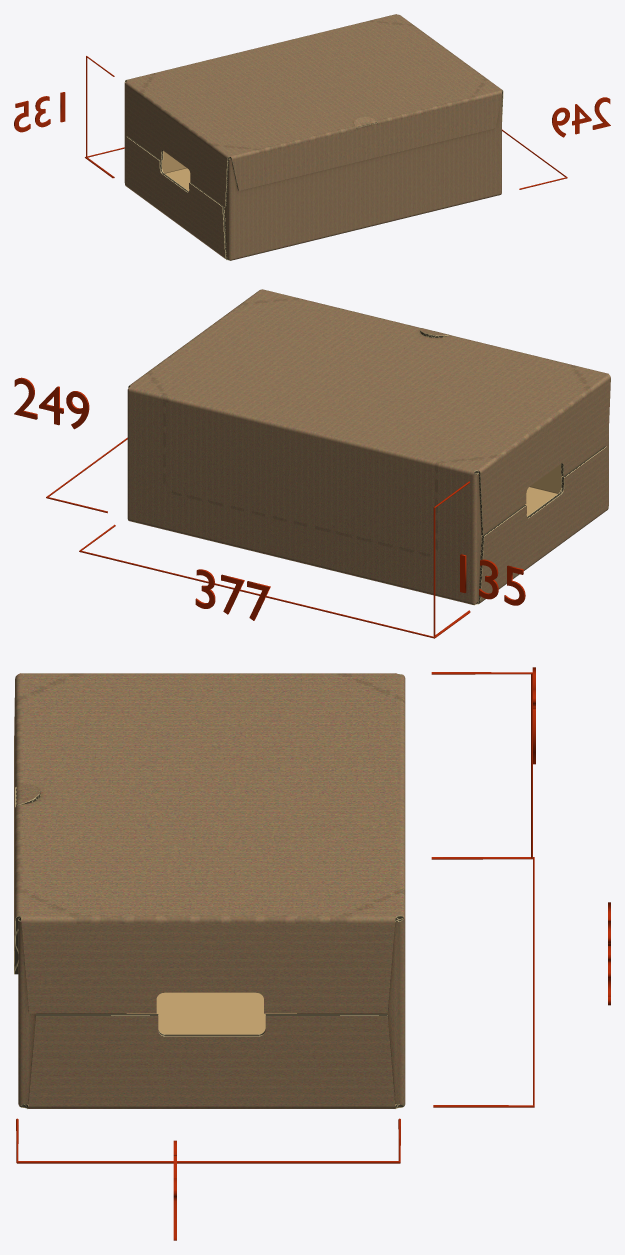
File: cocina.glb
The picture shows the model from 3 angles, top to bottom: view 1: azimuth 30°, elevation 25°; view 2: azimuth 150°, elevation 25°; view 3: azimuth 270°, elevation 25°; orthographic projection. The views are drawn at different scales.
Parts seen in each view (by area): view 1: TQ2_ARD-node.145, Texto.014, Texto.015; view 2: TQ2_ARD-node.145, Texto.014, Texto.013, Texto.015, Plano.011, Plano.013; view 3: TQ2_ARD-node.145, Plano.012, Plano.013, Plano.011.
Boxes of the visible parts, box(x1,y1,x2,y2) form: TQ2_ARD-node.145: box(124, 14, 503, 260); Texto.014: box(552, 97, 610, 137); Texto.015: box(14, 92, 65, 132); TQ2_ARD-node.145: box(127, 289, 610, 605); Texto.014: box(14, 377, 89, 429); Texto.013: box(195, 569, 270, 620); Texto.015: box(460, 554, 525, 605); Plano.011: box(79, 524, 470, 638); Plano.013: box(433, 481, 470, 636); TQ2_ARD-node.145: box(14, 673, 405, 1108); Plano.012: box(16, 1118, 400, 1163); Plano.013: box(431, 672, 532, 859); Plano.011: box(433, 857, 534, 1107).
Bounding box in the file's own units: 0.6855 × 0.141 × 0.3888.
4 materials, 2 textured.
